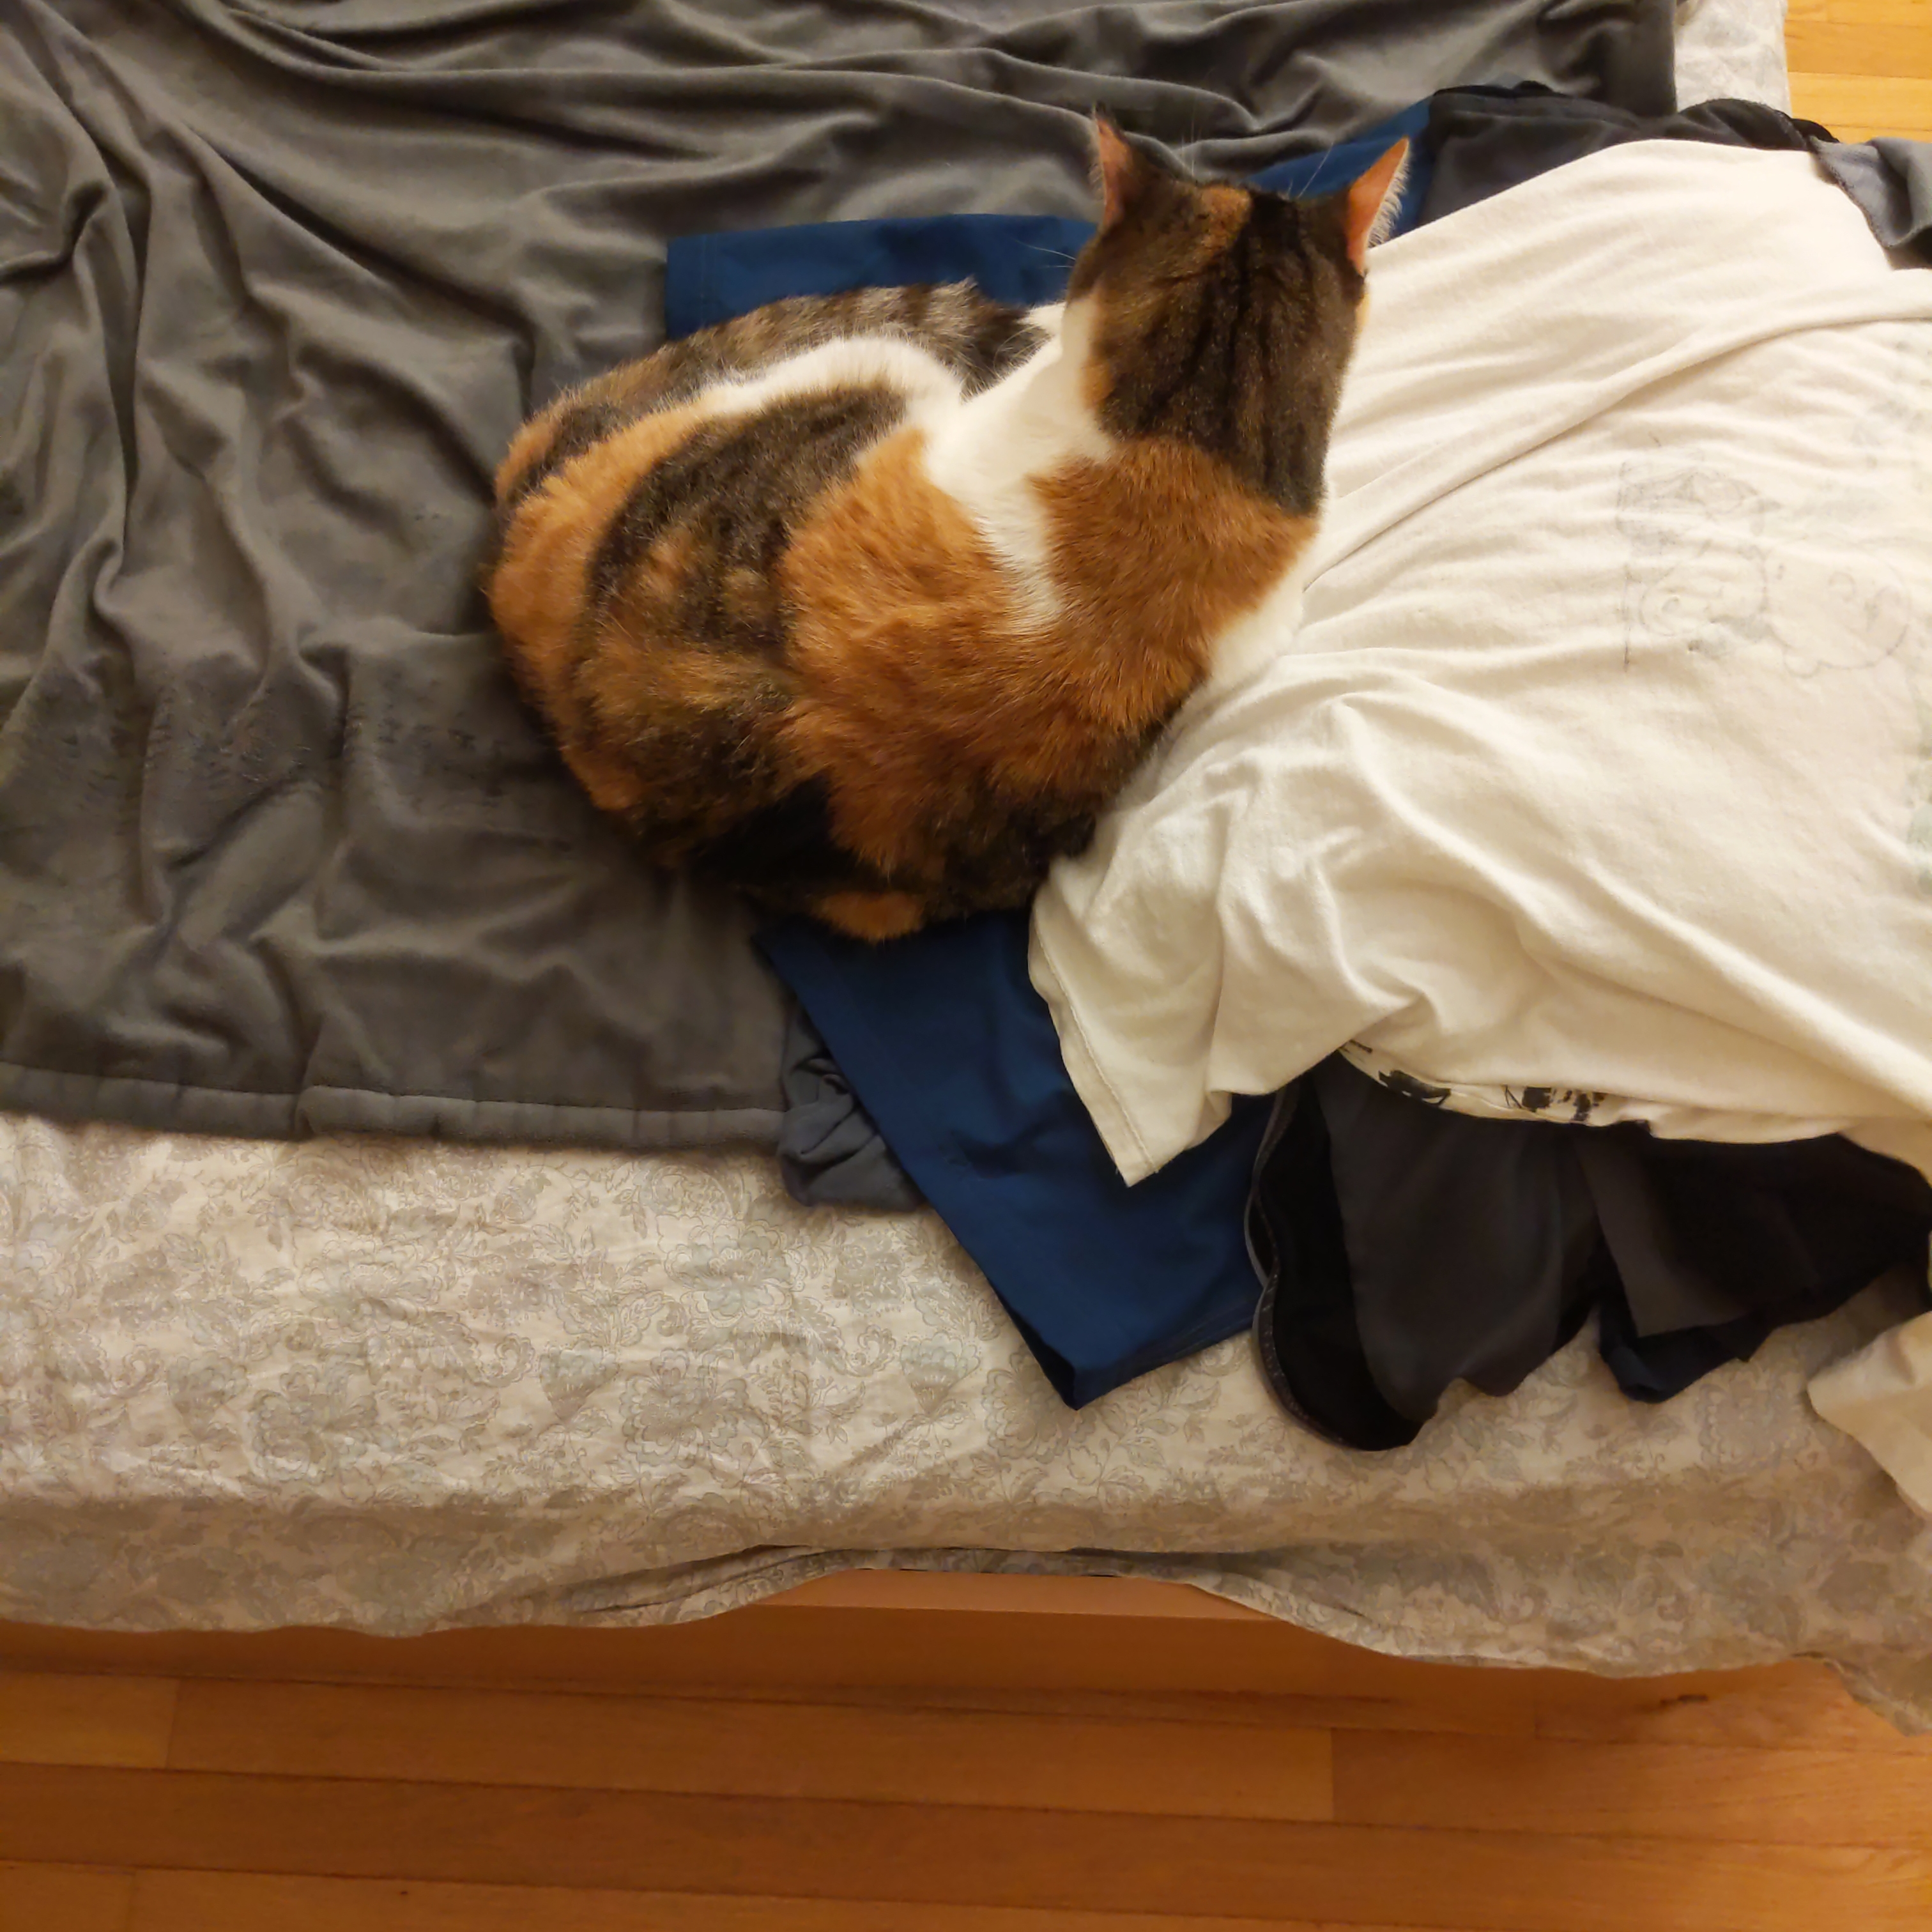Calico: (485, 103, 1410, 934)
